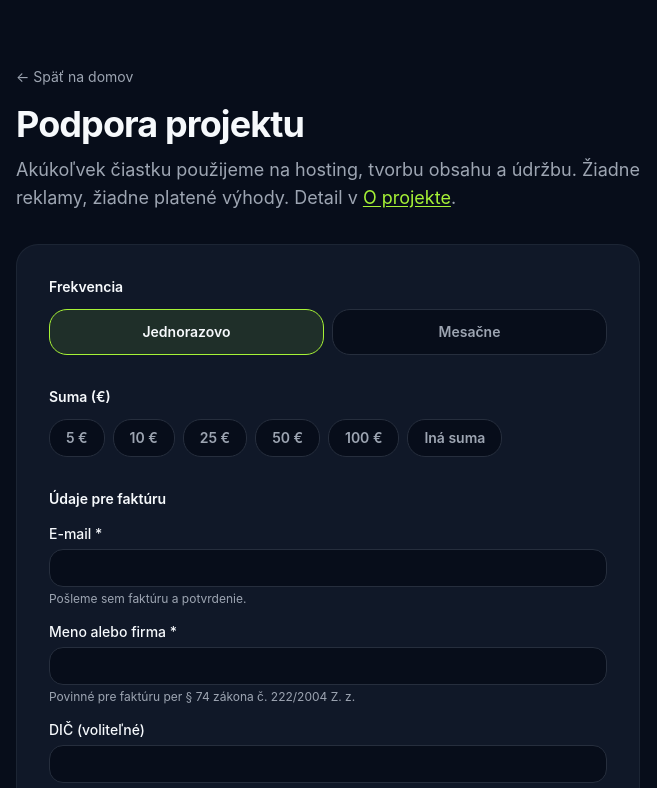
Test: DonateForm (/podpora) › disables footer-display checkbox until amount qualifies
This screenshot has width=657, height=788.
Click the radio button labelled "10 €".
click(144, 438)  # box x1=113 y1=419 x2=175 y2=457
(page scrolled)
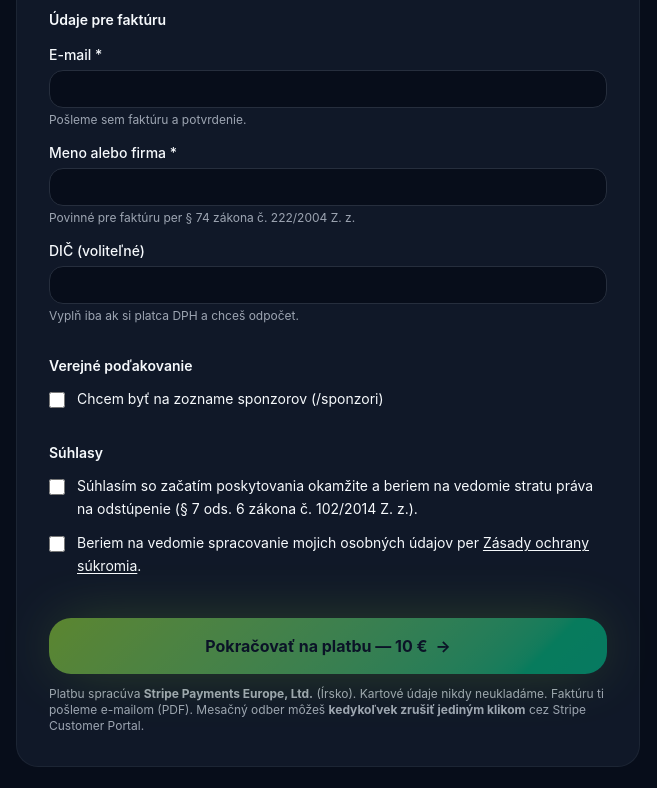
Click the checkbox labelled "Chcem byť na zozname sponzorov (/sponzori)".
click(57, 400)  # box x1=49 y1=392 x2=65 y2=408
(page scrolled)
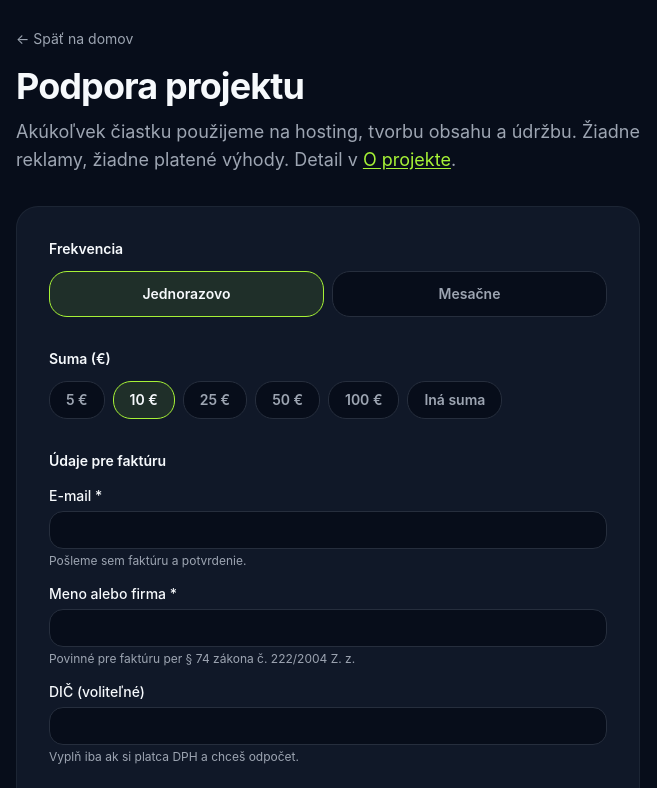
Click the radio button labelled "100 €".
click(364, 400)  # box x1=328 y1=381 x2=399 y2=419
(page scrolled)
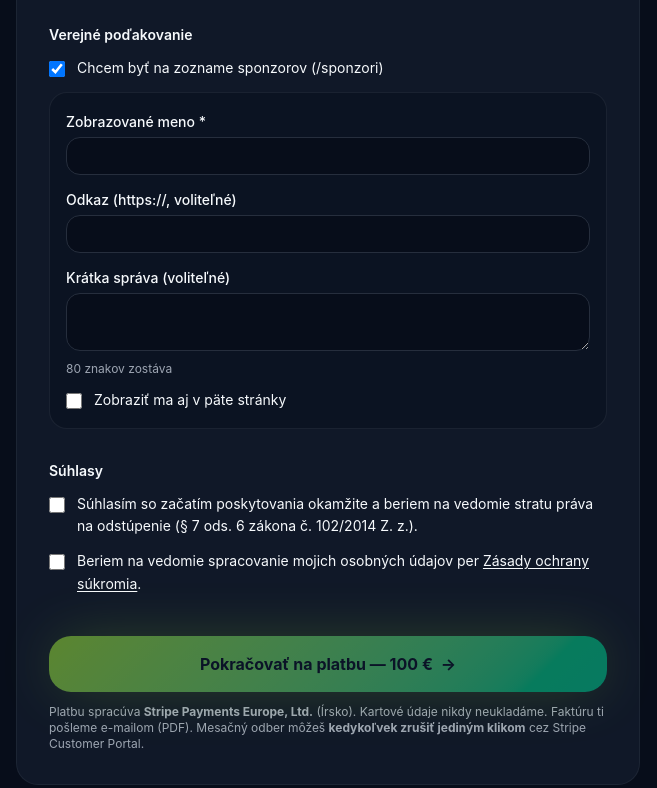
Expected: the checkbox labelled "Zobraziť ma aj v päte stránky" is enabled, x1=66 y1=393 x2=82 y2=409
